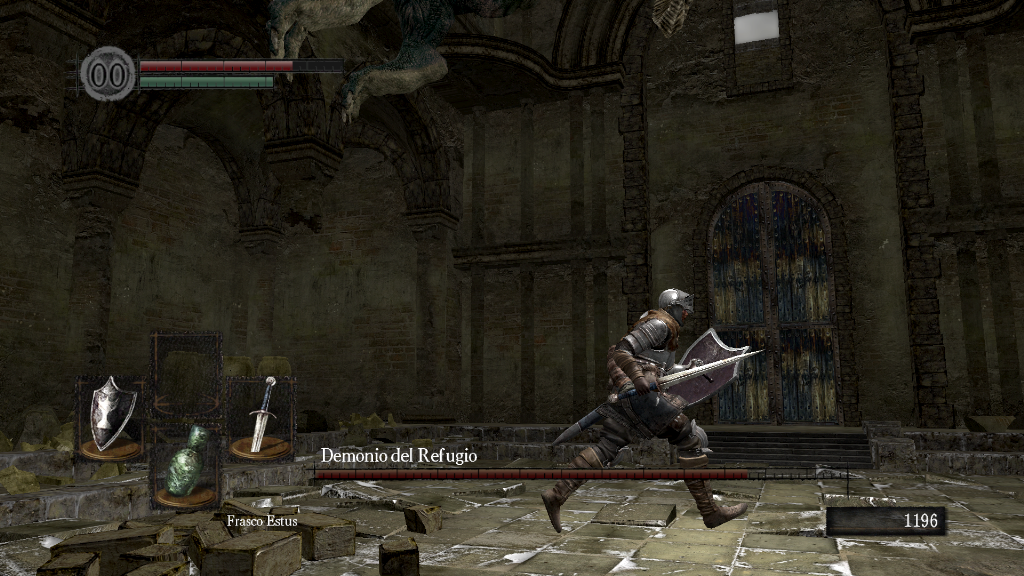asylumDemon: (253, 1, 700, 129)
bossHP: (314, 469, 847, 479)
health: (138, 58, 343, 71)
humanity: (80, 45, 136, 102)
player: (538, 286, 767, 535)
souls: (825, 506, 945, 536)
stamina: (138, 74, 274, 88)
